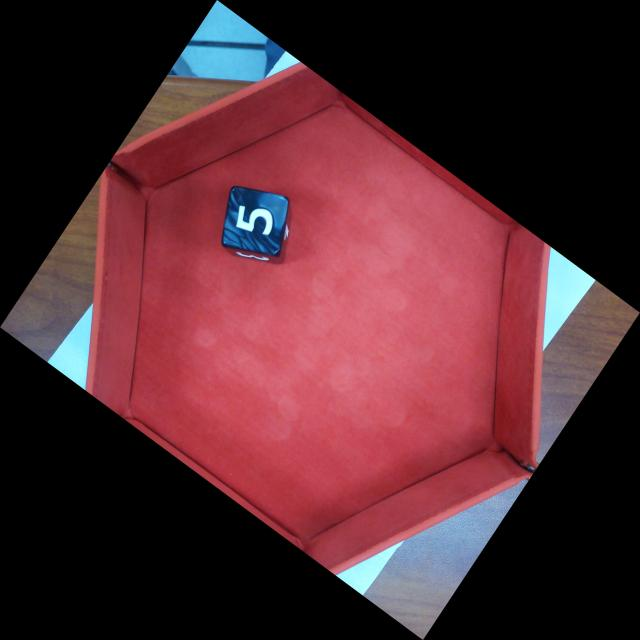dice: (222, 188, 289, 257)
